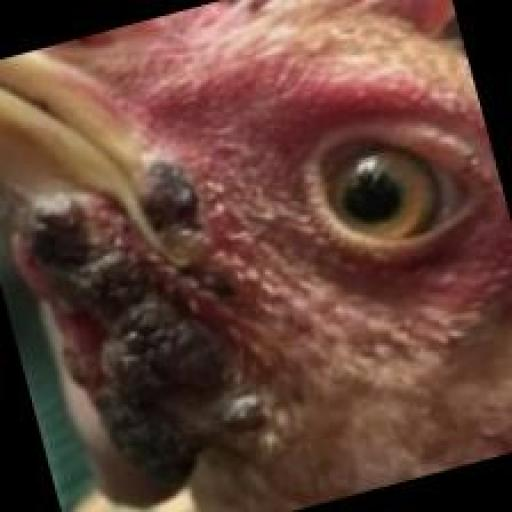disease: (6, 120, 358, 490)
